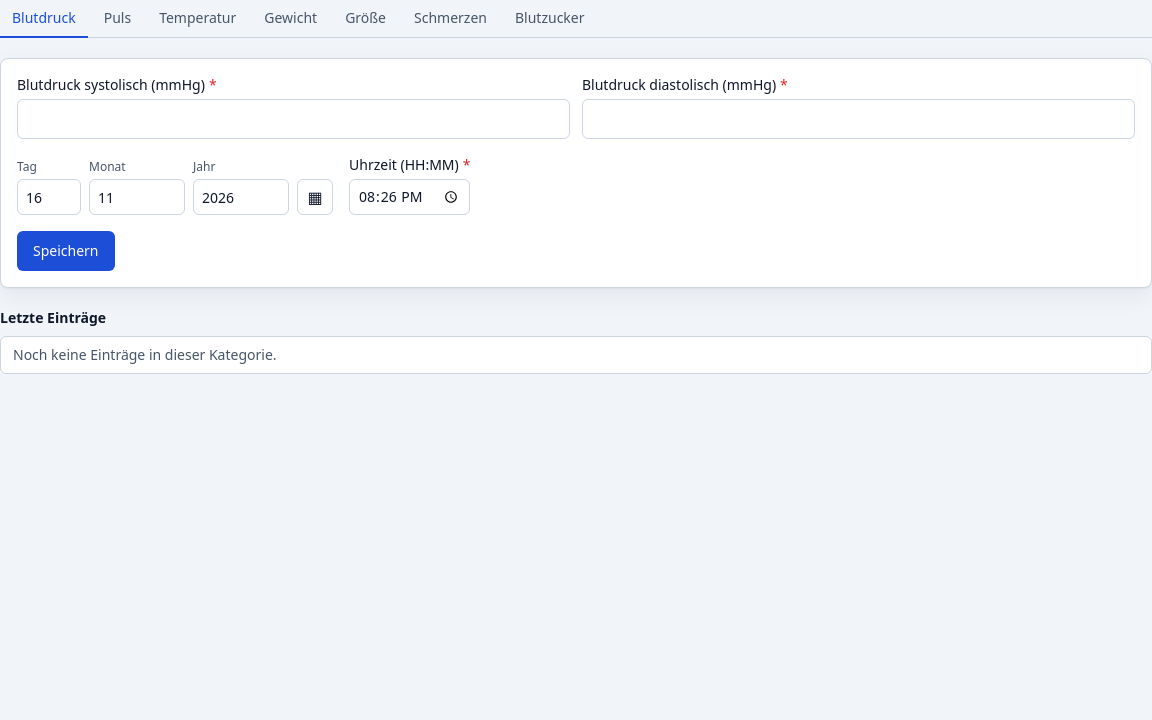
VitalwertePanel › lists recent entries newest first and deletes only after confirmation
What coordinates should you click on to do the following:
click the tab "Puls"
I would click on:
 (117, 19)
Its box is [92,0,143,38].
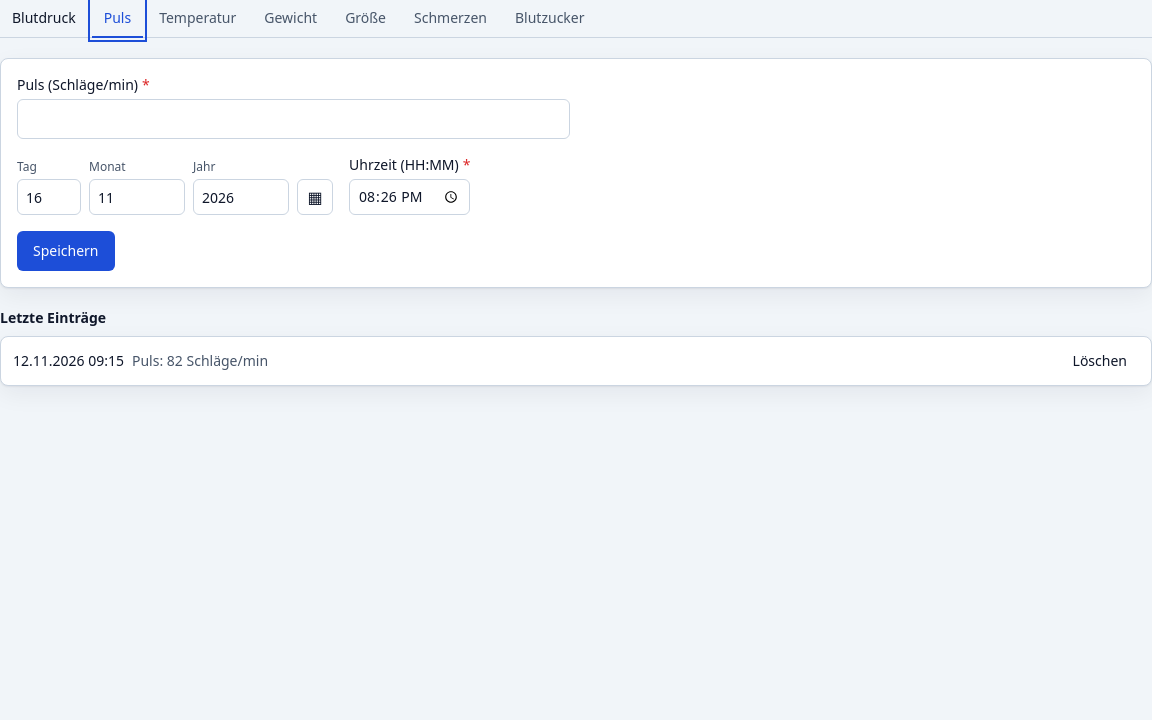
What coordinates should you click on to do the following:
click the button with aria-label "Eintrag vom 12.11.2026 09:15 löschen"
I would click on:
 (1100, 361)
Its box is [1061,345,1139,377].
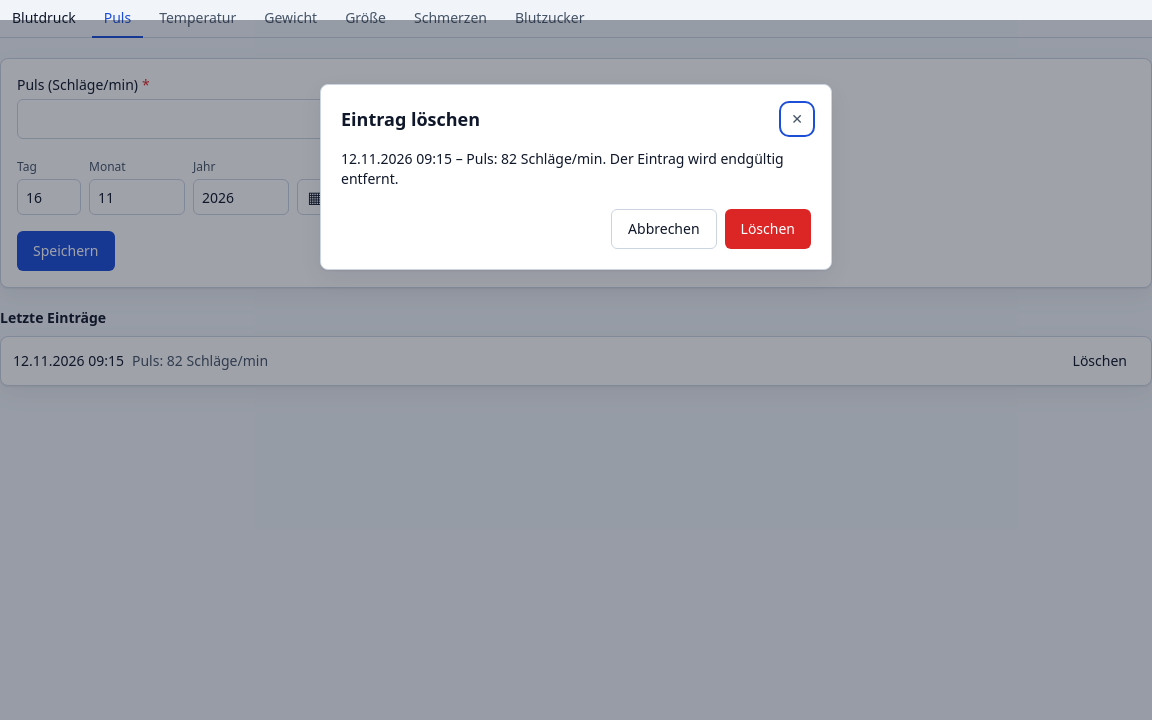
What coordinates should you click on to do the following:
click the button "Abbrechen"
I would click on:
 (664, 229)
Its box is [611,209,717,249].
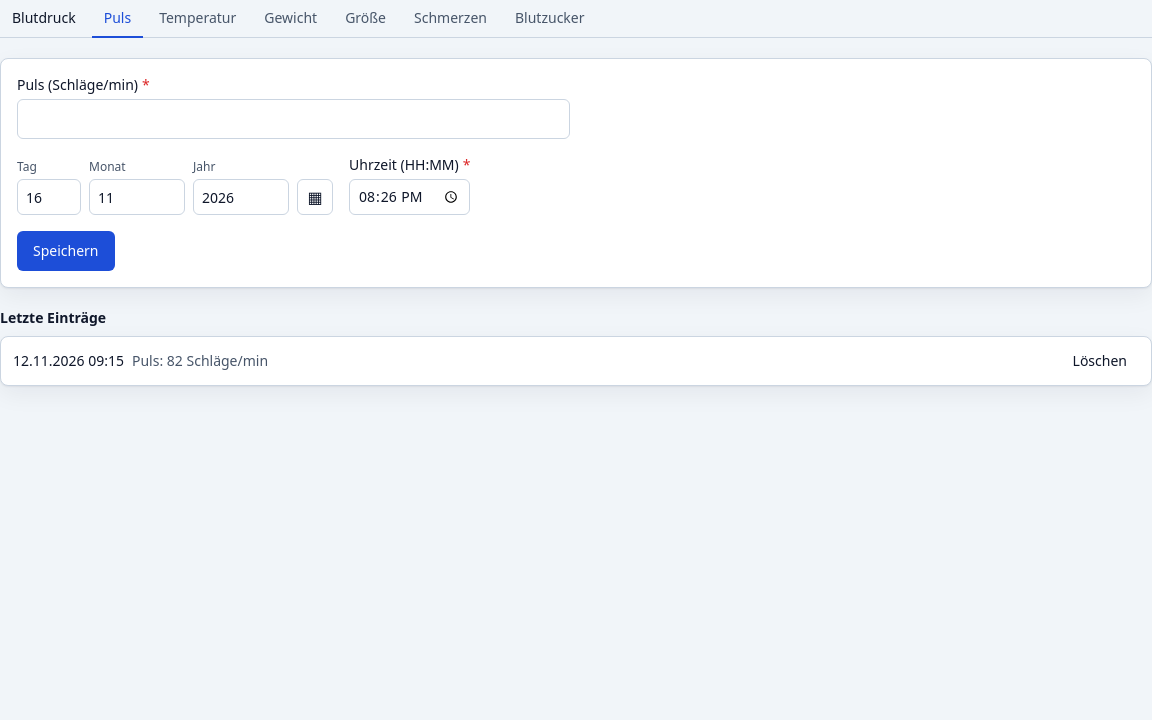
Now the text "Puls: 82 Schläge/min" is shown, box [132,351,268,370]
What coordinates should you click on to do the following:
click the button with aria-label "Eintrag vom 12.11.2026 09:15 löschen"
I would click on:
 (1100, 361)
Its box is [1061,345,1139,377].
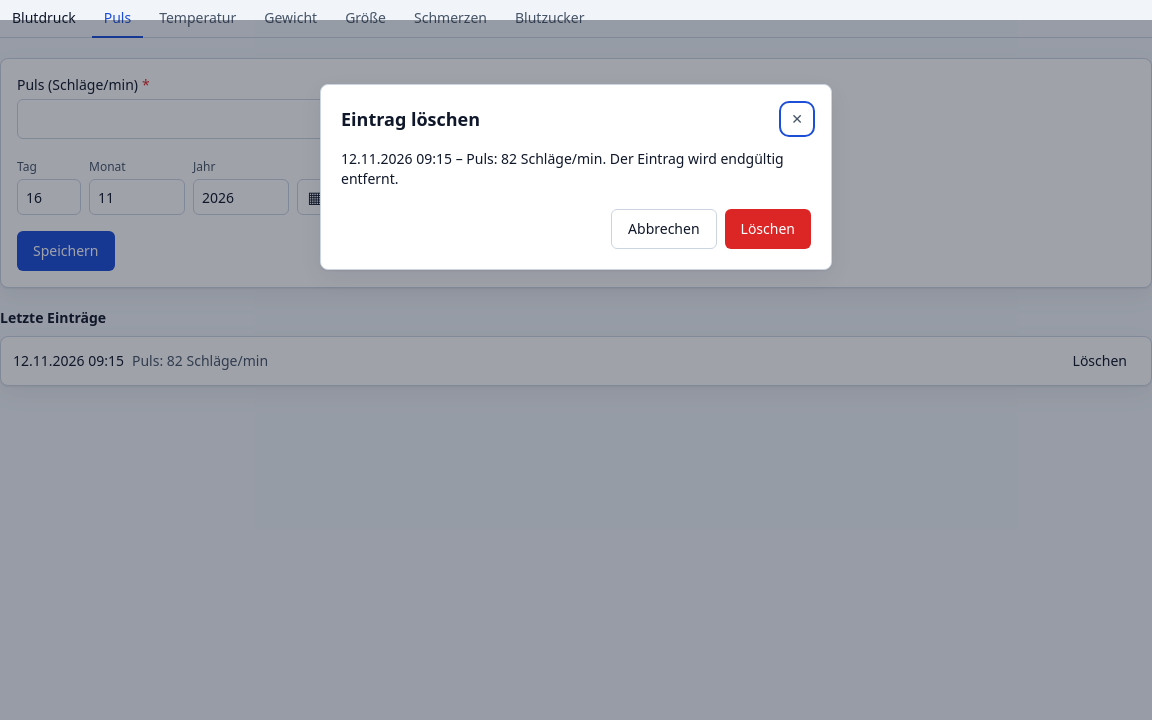
What coordinates should you click on to do the following:
click the button "Löschen"
I would click on:
 (768, 229)
Its box is [725,209,811,249].
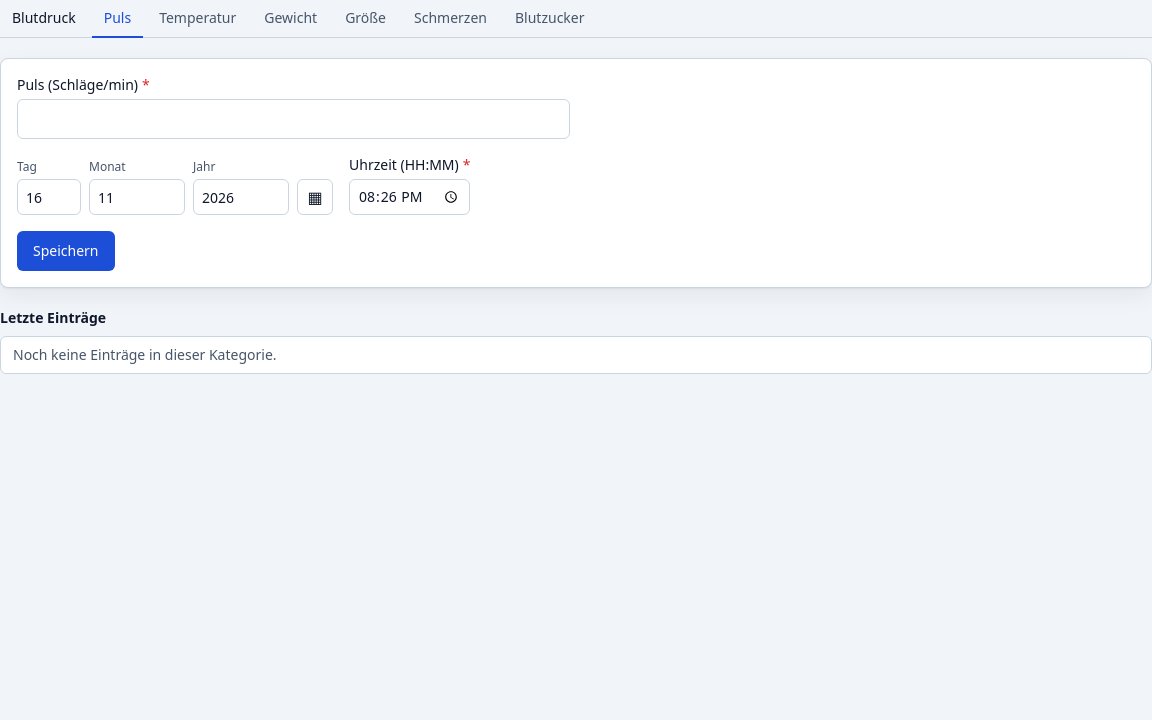
Now the text "Puls: 82 Schläge/min" is gone
